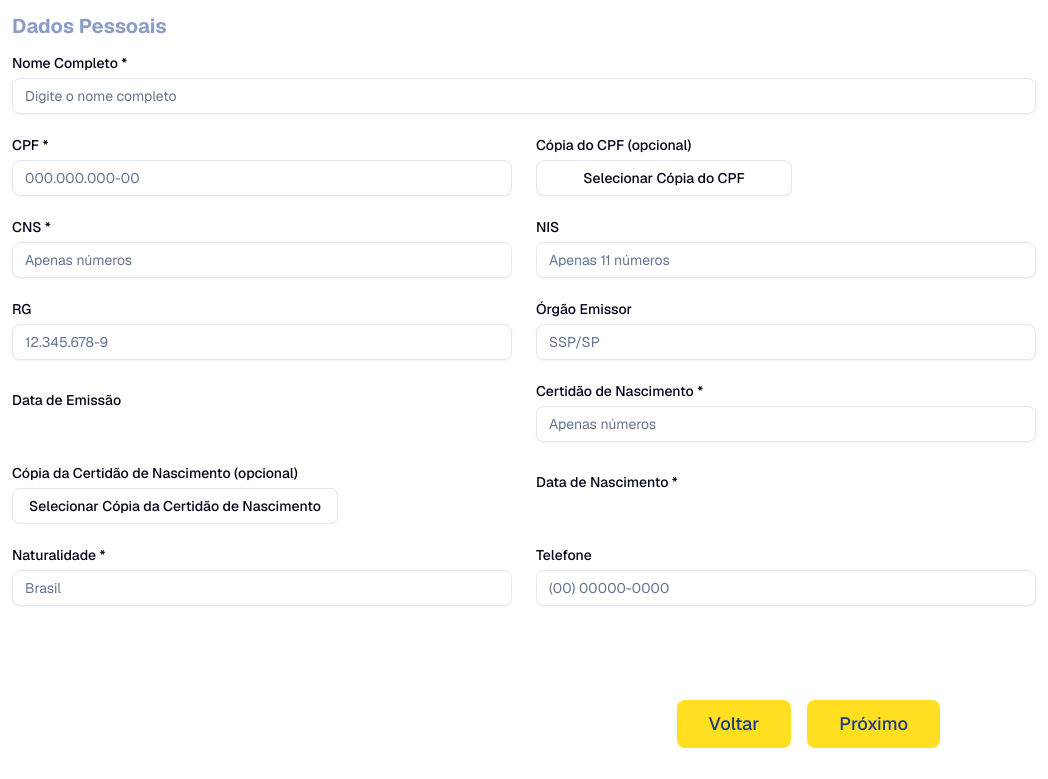
Test: MembersRegisterPersonalPage - Cartório, Livro e Folha (#1132) › exibe os campos e a dica quando a certidão possui entre 1 e 31 dígitos (< 32)
Type "12345" into the field labelled "Certidão de Nascimento *". click: coordinates (786, 424)
box: [536,406,1036,442]
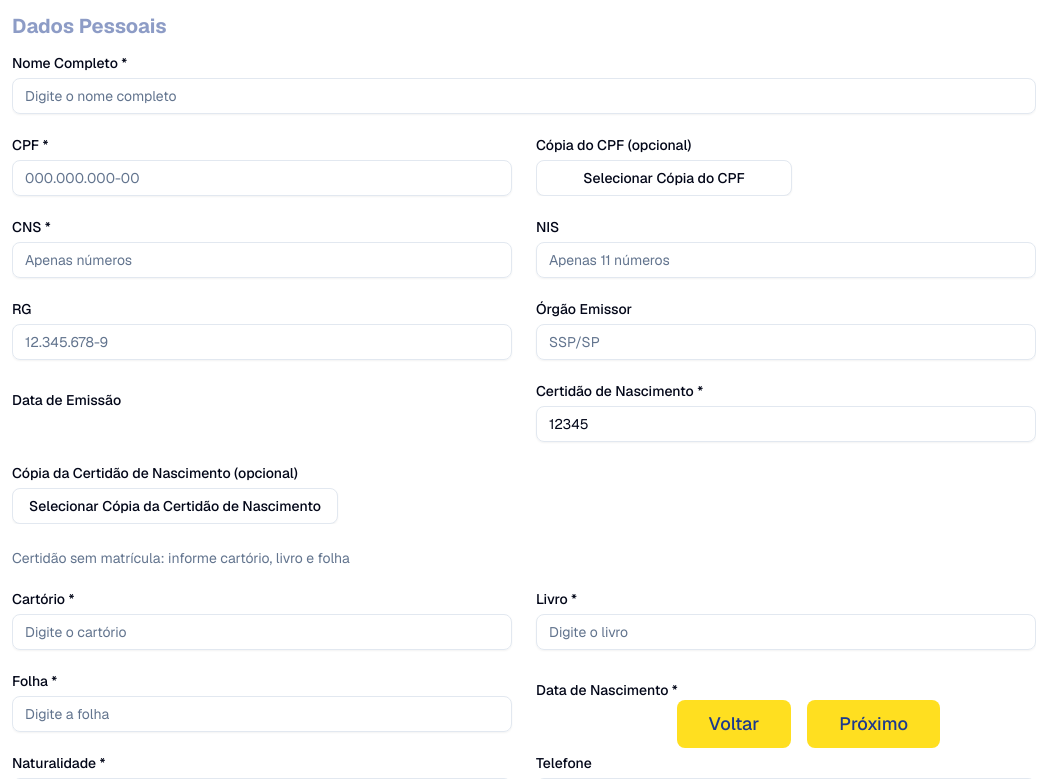
Expected: the field labelled "Cartório *" is shown, [12,614,512,650]
Expected: the field labelled "Livro *" is shown, [536,614,1036,650]
Expected: the field labelled "Folha *" is shown, [12,696,512,732]
